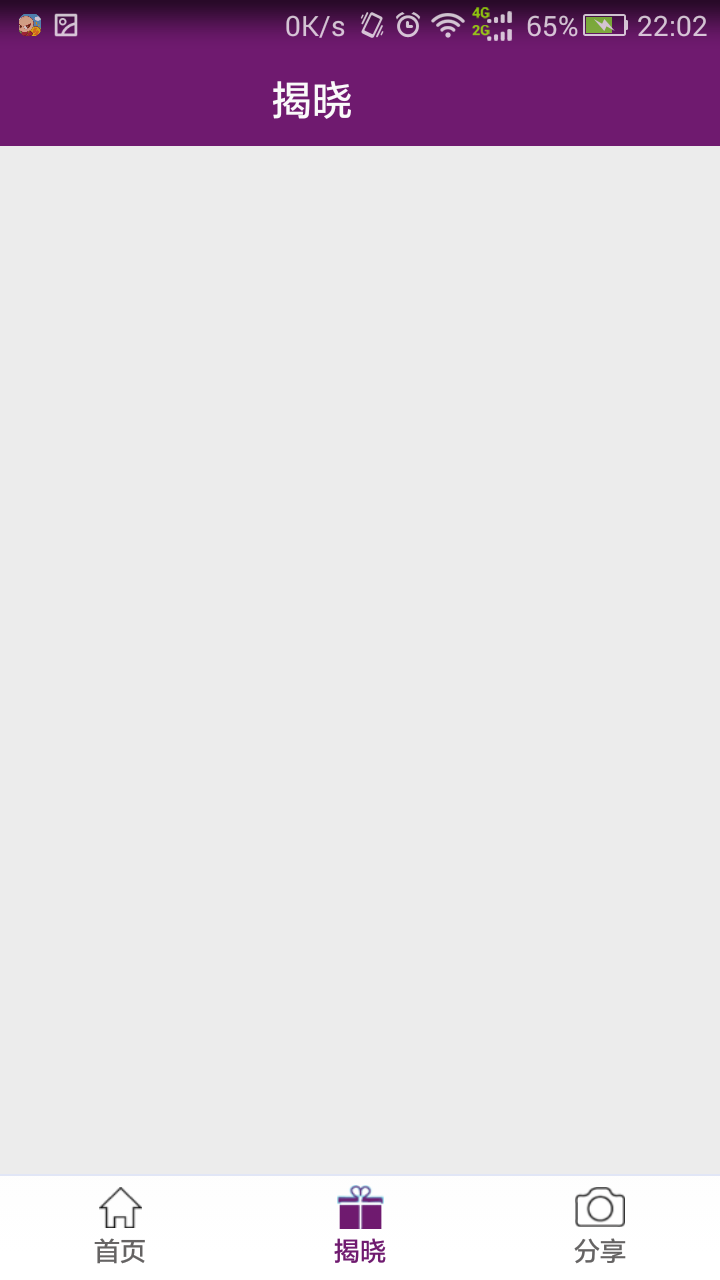nav: (29, 1184, 720, 1276)
textview: (19, 51, 694, 139)
